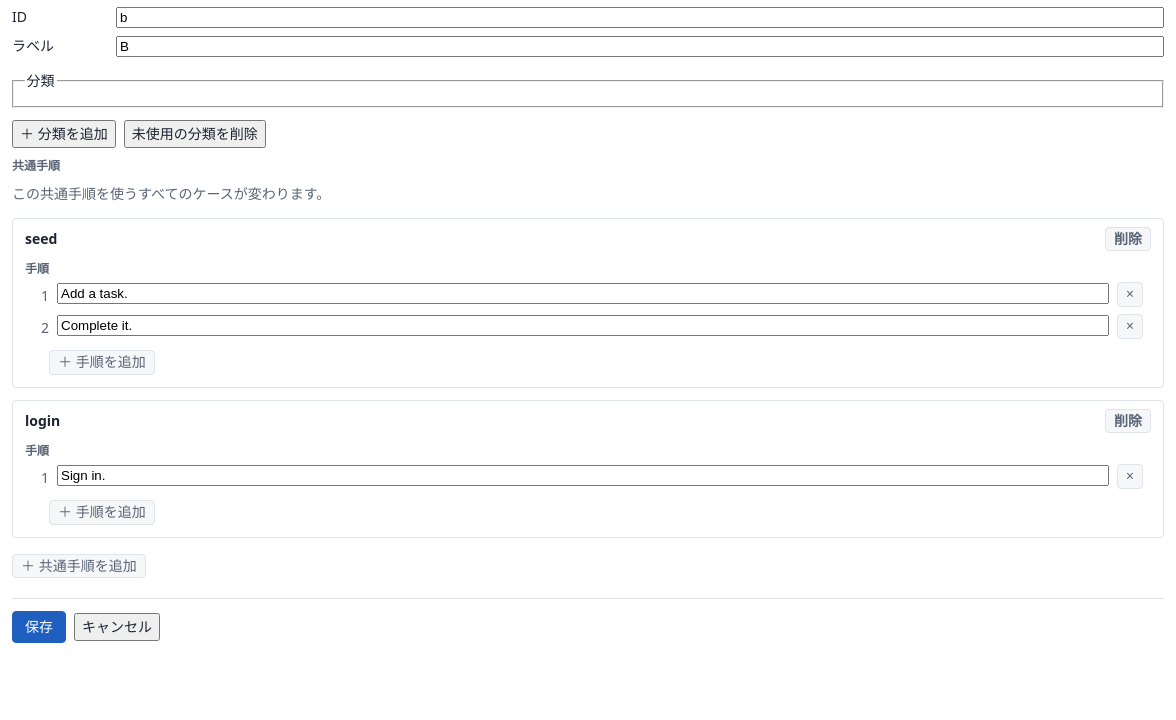
Scenario: ElementEditForm, for the common procedures of a behavior › shows the core's refusal as it is and stays open
The width and height of the screenshot is (1176, 720).
Click the button "保存" at (39, 627), box [12,611,66,643]
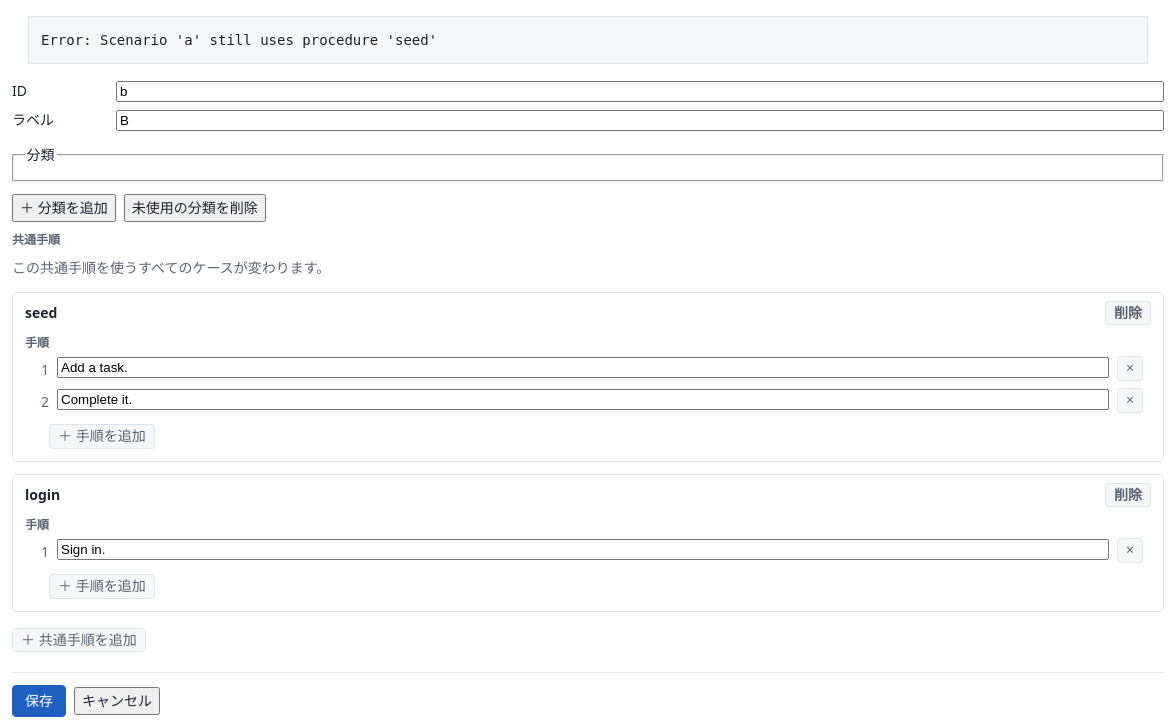
Result: the message shows "Scenario 'a' still uses procedure 'seed'" at [41,32,437,48]
